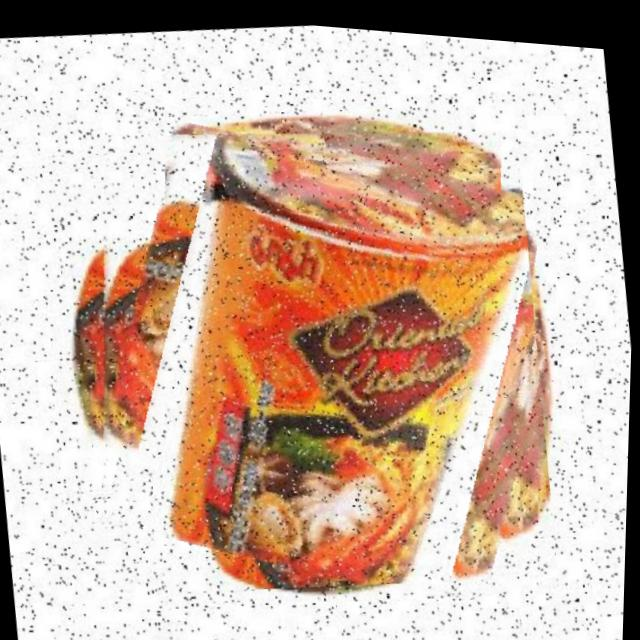Miscellaneous: (51, 79, 572, 621)
